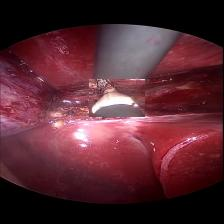Hook: (89, 78, 145, 116)
